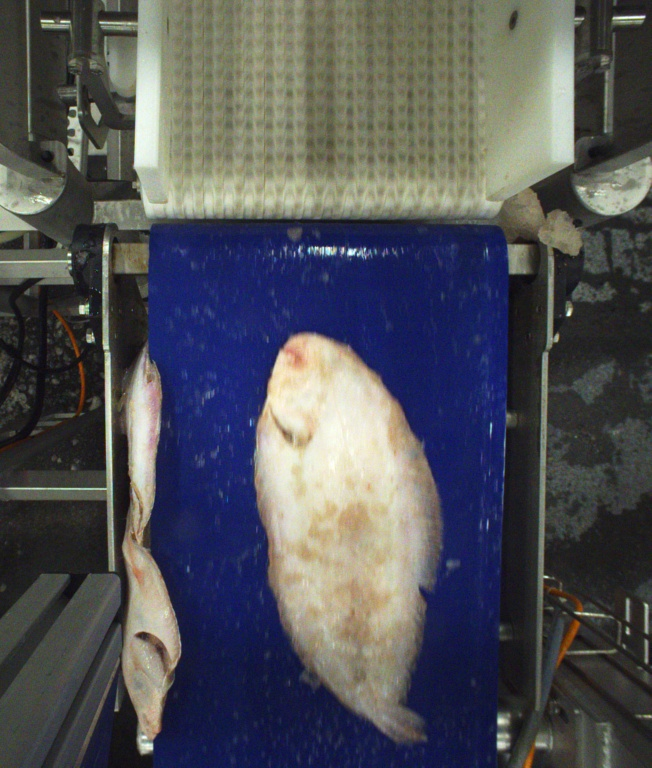SOL: (259, 329, 442, 746)
